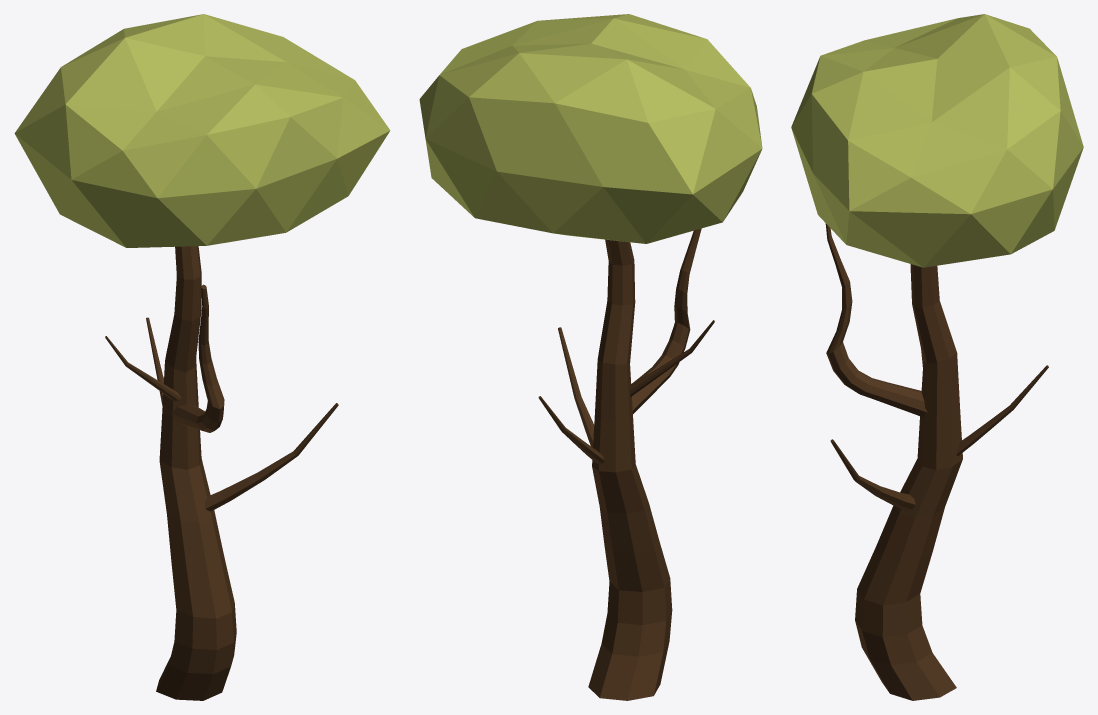
File: Tree 008.fbx
The picture shows the model from 3 angles, left to right: view 1: azimuth 30°, elevation 25°; view 2: azimuth 150°, elevation 25°; view 3: azimuth 270°, elevation 25°; orthographic projection. The views are drawn at different scales.
Visible parts, largest first — view 1: Tree 003.002; view 2: Tree 003.002; view 3: Tree 003.002.
Boxes of the visible parts, x1,y1,x2,y2 form: Tree 003.002: (14,14,390,700); Tree 003.002: (419,14,762,700); Tree 003.002: (791,14,1083,700).
Bounding box in the file's own units: 194 × 395 × 160.
